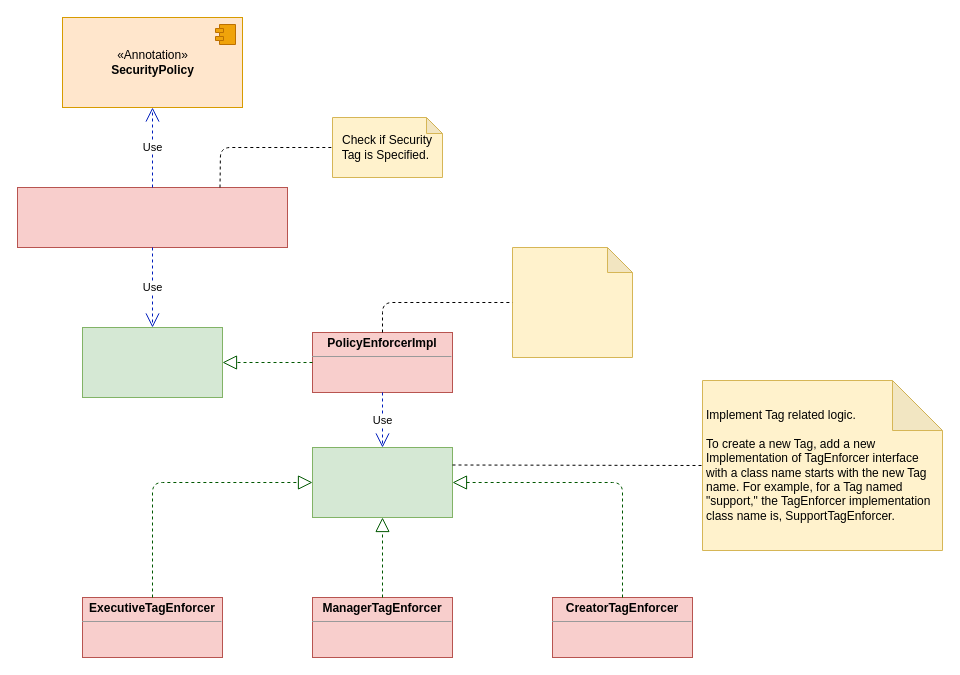
This 960x675 diagram has some shape labels left out. Here are the shapes that lost their labels. From the top down, the centre of each, then its label:
At point 152,217: "SecurityPolicyAnnotationProcessor".
At point 572,302: "Check if JWT claims contains required scope for authorization.".
At point 152,362: "<<Interface>> PolicyEnforcer".
At point 382,482: "<<Interface>> TagEnforcer".
